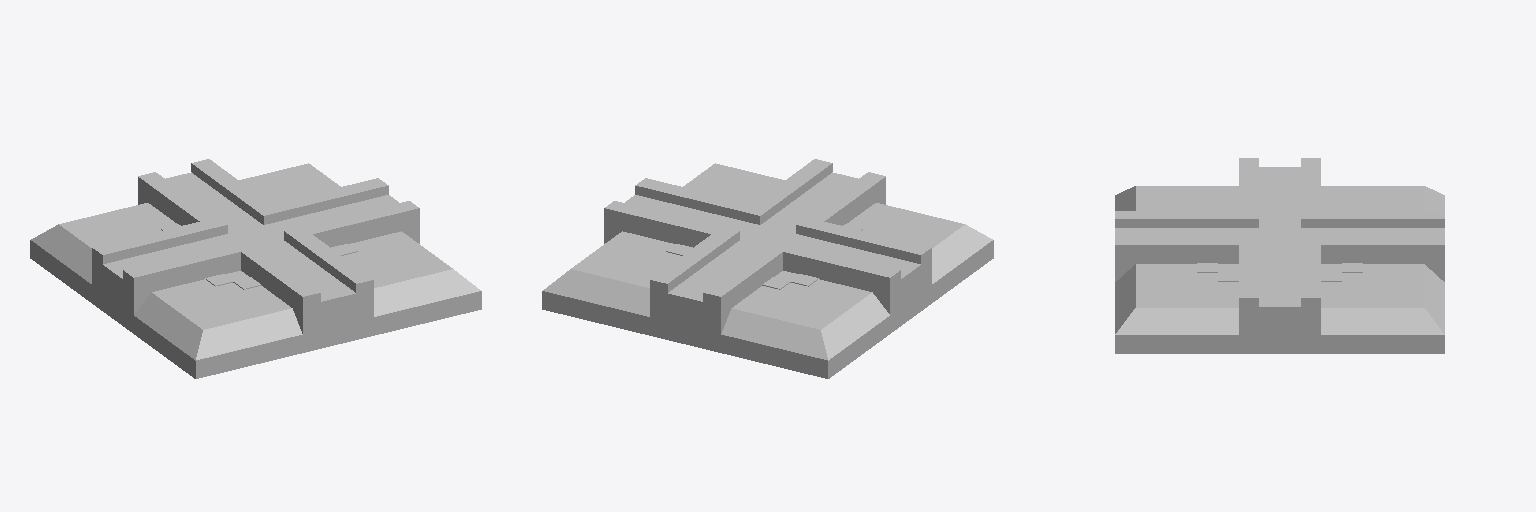
The model's file is modelPlateEvent.obj.
3 renders of one model, left to right at view 1: azimuth 30°, elevation 25°; view 2: azimuth 150°, elevation 25°; view 3: azimuth 270°, elevation 25°, orthographic.
Visible parts, largest first — view 1: plate, Active_North, Active_South, Active_East, Active_West, Active_Centre; view 2: plate, Active_South, Active_North, Active_East, Active_West, Active_Centre; view 3: plate, Active_East, Active_West, Active_South, Active_North, Active_Centre.
Part boxes in pixels (x1,y1,x2,y2): plate: (30, 159, 481, 378); Active_North: (166, 172, 262, 233); Active_South: (259, 240, 354, 301); Active_East: (264, 195, 398, 239); Active_West: (103, 234, 237, 278); Active_Centre: (229, 225, 282, 246); plate: (542, 159, 993, 378); Active_South: (761, 172, 857, 233); Active_North: (669, 240, 764, 301); Active_East: (625, 195, 759, 239); Active_West: (786, 234, 920, 278); Active_Centre: (741, 225, 794, 246); plate: (1115, 158, 1444, 353); Active_East: (1259, 246, 1300, 306); Active_West: (1259, 167, 1300, 227); Active_South: (1115, 228, 1258, 236); Active_North: (1301, 228, 1444, 236); Active_Centre: (1259, 228, 1300, 245).
Size of the model in its own units: 16 by 3 by 16.